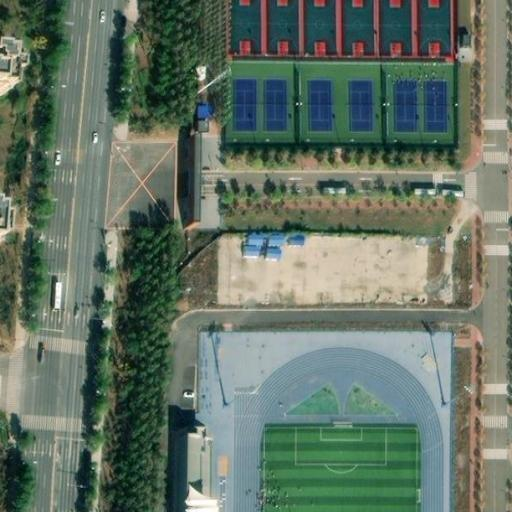building: (185, 425, 213, 512), (0, 42, 25, 90), (189, 128, 202, 219), (192, 100, 211, 126), (0, 195, 12, 230)
